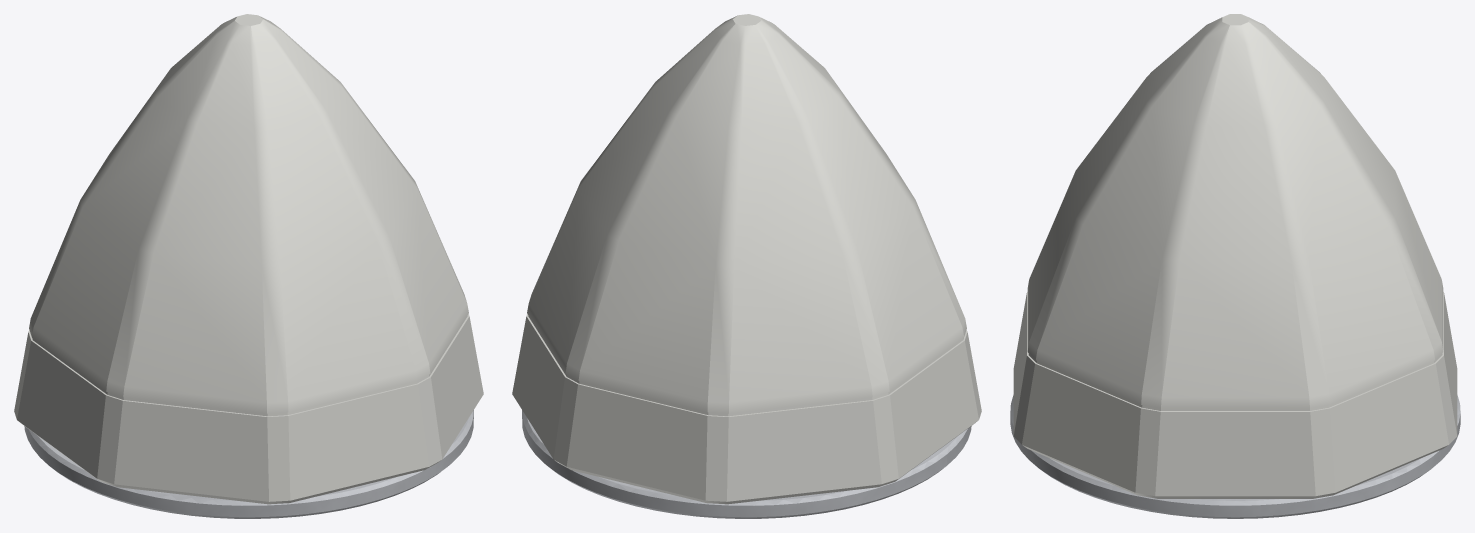
The model's file is ax_struct_13_nose_cone_m.glb.
3 renders of one model, left to right at view 1: azimuth 30°, elevation 25°; view 2: azimuth 150°, elevation 25°; view 3: azimuth 270°, elevation 25°, orthographic.
Parts seen in each view (by area): view 1: nose_shell, base_ring; view 2: nose_shell, base_ring; view 3: nose_shell, base_ring.
Part boxes in pixels (box(x1,y1,x2,y2)): nose_shell: box(14, 14, 483, 504); base_ring: box(24, 410, 473, 518); nose_shell: box(512, 14, 981, 504); base_ring: box(522, 410, 971, 518); nose_shell: box(1013, 14, 1457, 498); base_ring: box(1010, 395, 1460, 518).
Bounding box in the file's own units: 2.5 × 2.49 × 2.5.
2 materials, 1 textured.
